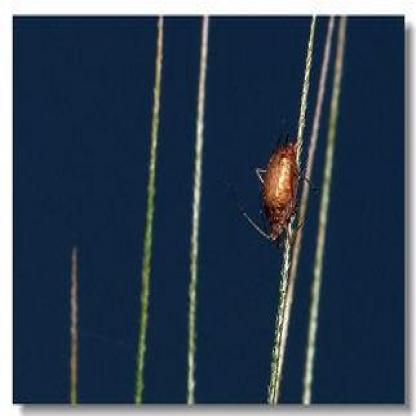aphid: (248, 122, 309, 250)
